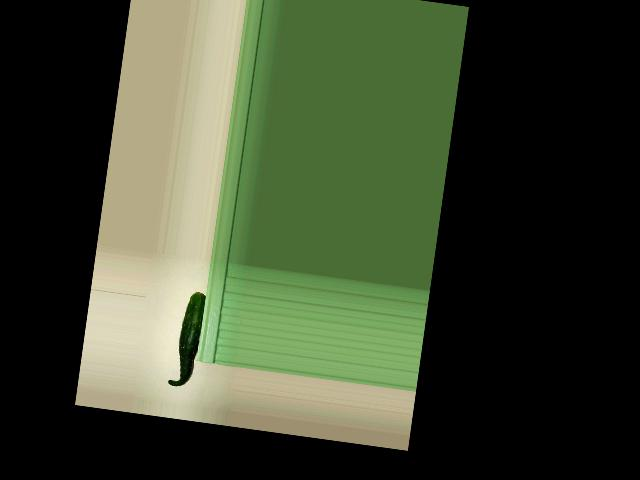cucumber: (167, 290, 206, 389)
